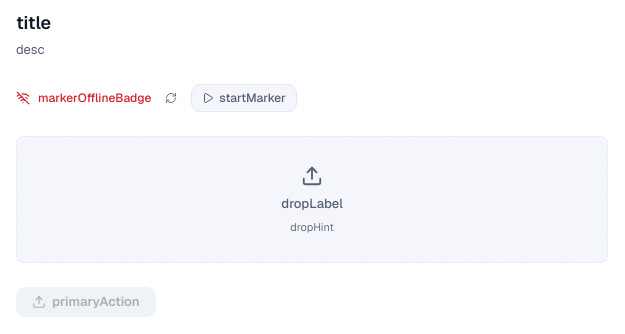
Test case: ConvertPanel — R12-6: Avvia Marker — visible in Tauri + offline › badge flips to online after the poll detects Marker is up
The image size is (625, 334).
Expected: the text "markerOfflineBadge" is shown, [38,90,151,106]
Click the button with test id "start-marker-btn" at {"x": 244, "y": 98}, box [191,84,297,112]
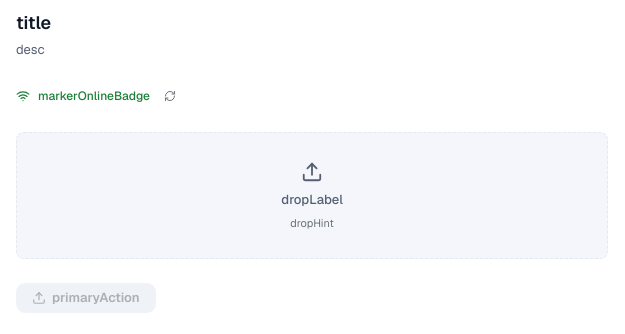
Result: the text with test id "marker-status-badge" reads "markerOnlineBadge" at [38,88,150,104]
